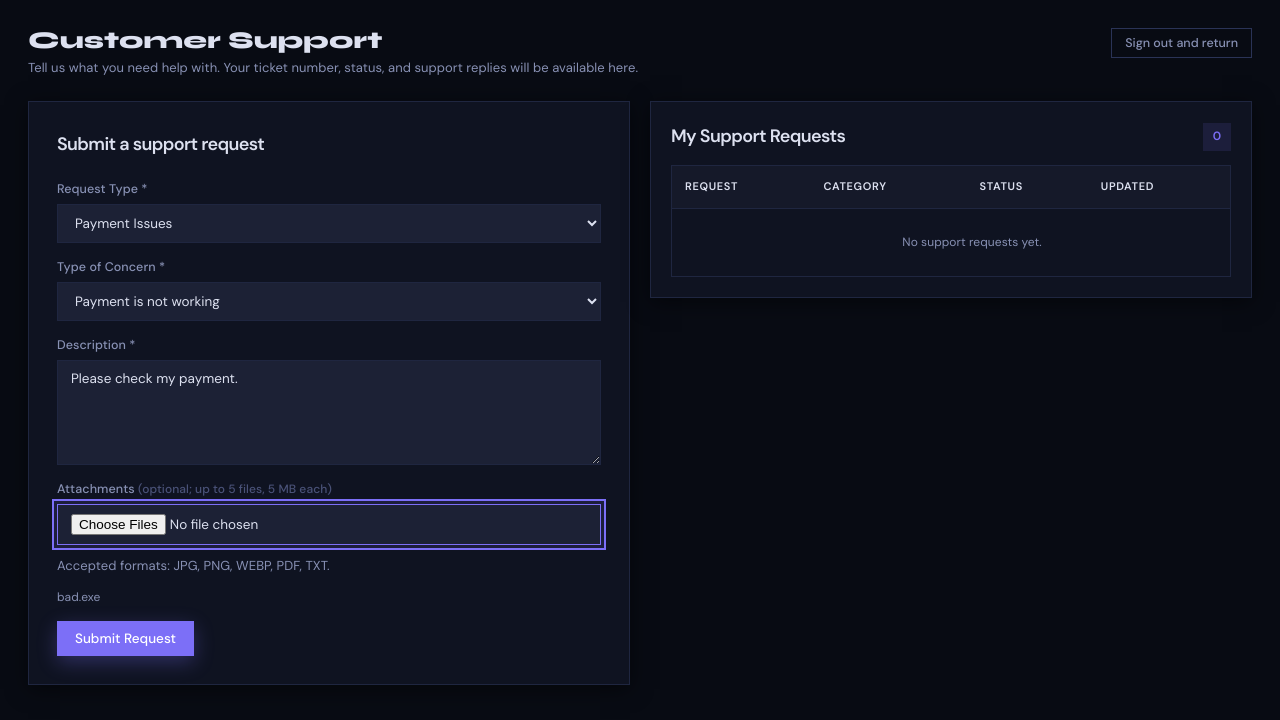
Test: React Customer Support › rejects unsupported uploads before sending any file
This screenshot has width=1280, height=720.
Earlier steps of the test are not shown.
Click the button "Submit Request". click: [126, 639]
box: [57, 621, 194, 656]
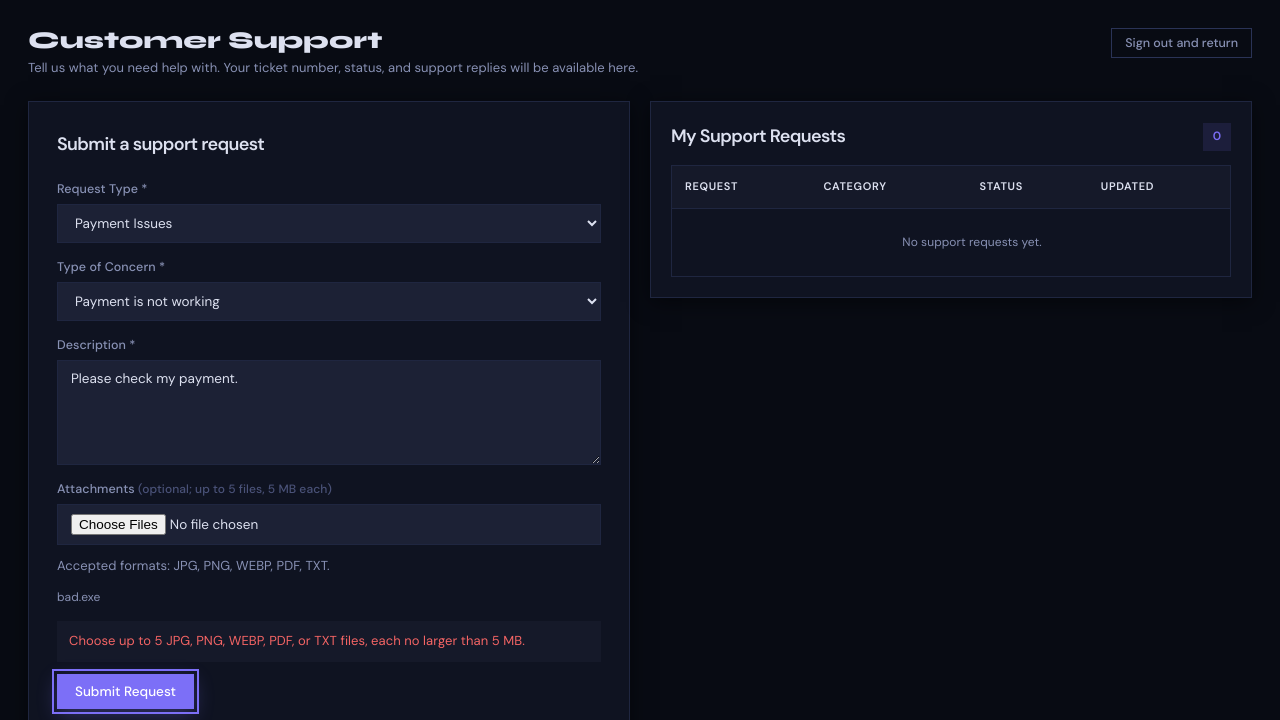
Now the text "Choose up to 5 JPG, PNG, WEBP, PDF, or TXT files, each no larger than 5 MB." is shown, box [57, 621, 601, 662]
